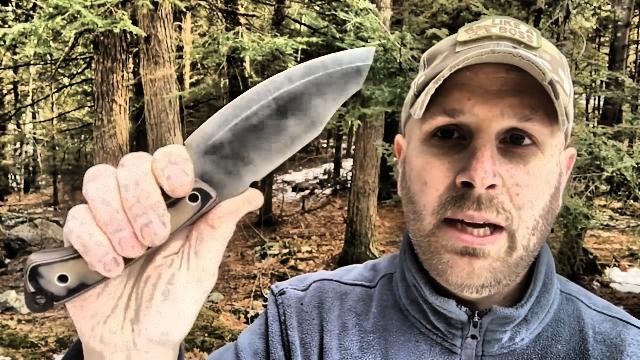knife: (106, 44, 382, 258)
